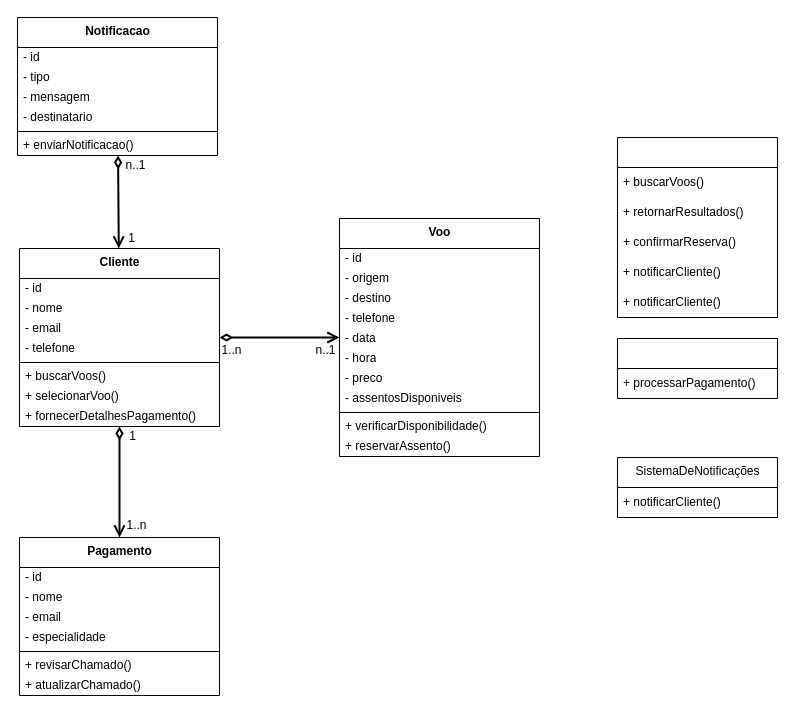
This 795x713 diagram has some shape labels left out. Here are the shapes that lost their labels. From the top down, the box of each, then its label:
(616, 136, 778, 318): SistemaDeReserva
(616, 338, 778, 398): SistemaDePagamento
